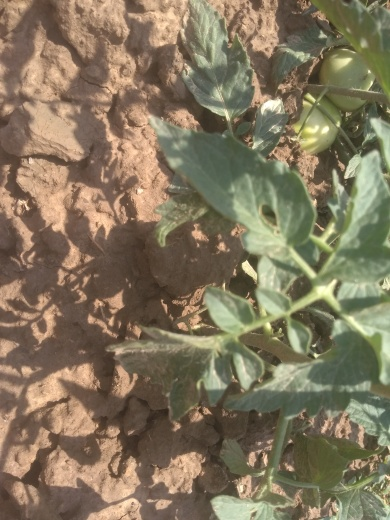tomato: (284, 86, 348, 152), (318, 43, 377, 102)
tomato diseased leaf: (167, 133, 307, 256)
tomato plant: (175, 1, 386, 511)
